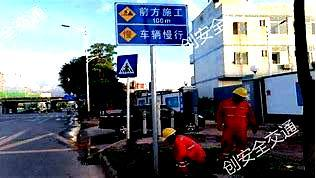sign: (116, 3, 187, 45)
